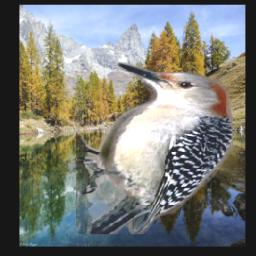Woodpecker: (76, 62, 233, 234)
